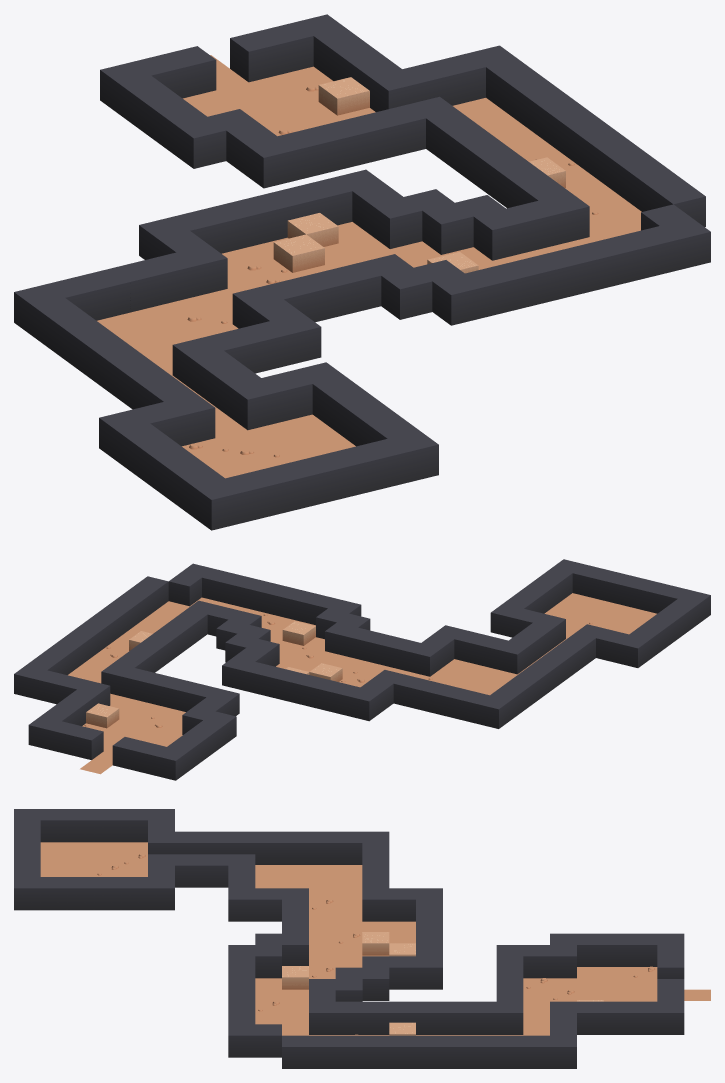
File: level_01.glb
The picture shows the model from 3 angles, top to bottom: view 1: azimuth 30°, elevation 25°; view 2: azimuth 150°, elevation 25°; view 3: azimuth 270°, elevation 25°; orthographic projection. The views are drawn at different scales.
Parts seen in each view (by area): view 1: dirt.056, dirt.003, dirt.102, dirt.059, dirt.062, dirt.057, dirt.058, dirt.092, dirt.021, dirt.110, dirt.097, dirt.035 (+95 smaller); view 2: dirt.024, dirt.029, dirt.110, dirt.113, dirt.018, dirt.044, dirt.031, dirt.068, dirt.026, dirt.016, dirt.034, dirt.047 (+89 smaller); view 3: dirt.023, dirt.027, dirt.032, dirt.069, dirt.002, dirt.010, dirt.012, dirt.013, dirt.043, dirt.077, dirt.082, dirt.091 (+51 smaller).
Boxes of the visible parts, x1,y1,x2,y2 form: dirt.056: (381, 267, 432, 319); dirt.003: (192, 478, 243, 530); dirt.102: (245, 136, 296, 188); dirt.059: (473, 208, 524, 260); dirt.062: (432, 273, 483, 325); dirt.057: (422, 203, 473, 254); dirt.058: (371, 197, 422, 248); dirt.092: (175, 117, 226, 168); dirt.021: (229, 378, 279, 430); dirt.110: (230, 30, 280, 82); dirt.097: (370, 69, 420, 111); dirt.035: (79, 268, 130, 320); dirt.024: (496, 640, 529, 674); dirt.029: (409, 643, 442, 676); dirt.110: (70, 726, 103, 759); dirt.113: (154, 747, 187, 780); dirt.018: (617, 634, 650, 667); dirt.044: (477, 695, 510, 728); dirt.031: (348, 687, 381, 721); dirt.068: (168, 572, 201, 606); dirt.026: (454, 630, 487, 663); dirt.016: (490, 603, 523, 637); dirt.034: (414, 680, 447, 713); dirt.047: (285, 672, 317, 705); dirt.023: (201, 854, 228, 887); dirt.027: (228, 888, 255, 921); dirt.032: (362, 888, 389, 921); dirt.069: (228, 1024, 255, 1057); dirt.002: (40, 809, 67, 842); dirt.010: (40, 877, 67, 910); dirt.012: (94, 877, 121, 910); dirt.013: (94, 809, 121, 842); dirt.043: (335, 831, 362, 864); dirt.077: (335, 1001, 362, 1034); dirt.082: (469, 1001, 496, 1034); dirt.091: (603, 933, 630, 966).
Size of the model in its own units: 21 by 0.9 by 26.
4 materials, 4 textured.
